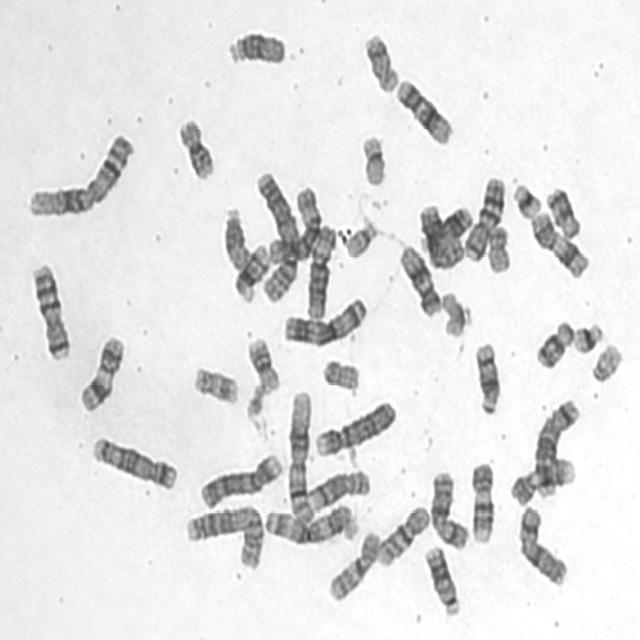A1: (22, 127, 136, 220), (282, 386, 315, 527)
A2: (251, 166, 301, 305), (180, 498, 267, 570)
A3: (279, 292, 368, 348), (260, 499, 357, 546)
B4: (310, 393, 399, 459), (196, 447, 284, 510)
B5: (530, 392, 582, 500), (87, 431, 179, 492)
C10: (323, 524, 382, 604), (372, 500, 432, 568)
C11: (526, 205, 592, 281), (75, 330, 126, 414)
C12: (391, 73, 454, 147), (394, 238, 442, 318)
C6: (264, 179, 325, 265), (301, 218, 339, 322)
C7: (25, 257, 72, 362), (460, 170, 507, 263)
C8: (422, 189, 469, 277), (304, 463, 372, 514)
C9: (505, 451, 578, 506), (466, 457, 496, 545)
D13: (420, 540, 461, 618), (416, 201, 474, 255)
D14: (230, 237, 271, 304), (469, 336, 502, 417)
D15: (223, 25, 288, 68), (218, 200, 254, 272)
E16: (173, 111, 216, 181), (242, 332, 282, 394)
E17: (359, 27, 400, 94), (188, 360, 241, 407)
E18: (530, 314, 576, 370), (542, 181, 583, 240)
F19: (356, 128, 388, 187), (436, 285, 469, 339)
F20: (318, 354, 362, 392), (483, 220, 512, 274)
G21: (508, 177, 544, 221), (568, 316, 606, 355)
G22: (586, 337, 624, 384), (340, 214, 379, 259)
X: (513, 499, 570, 588), (426, 464, 470, 552)
